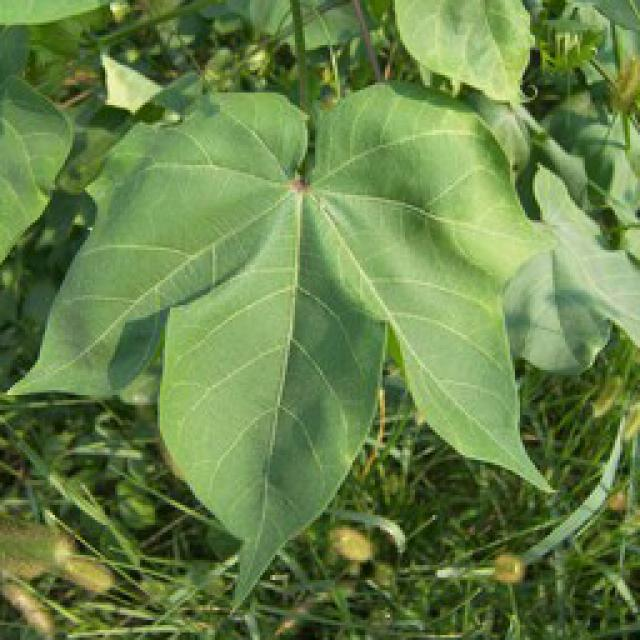Healthy Leaf: (32, 29, 560, 595)
